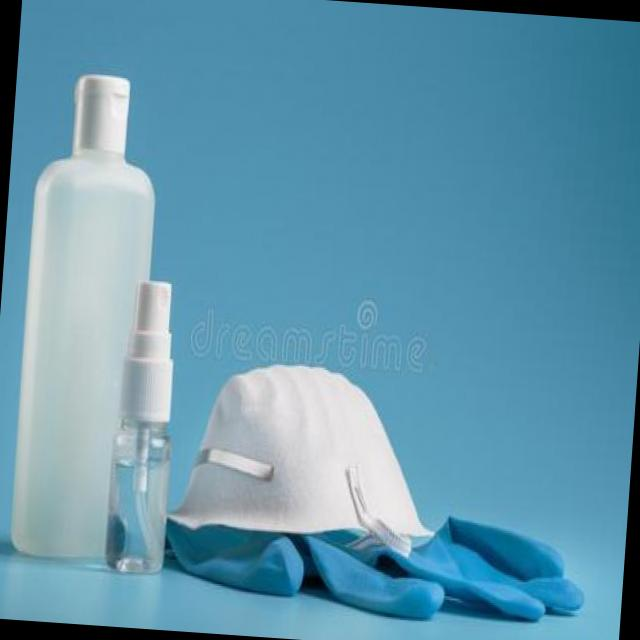sanitizer: (102, 267, 186, 576)
